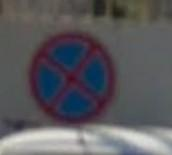No Parking: (29, 33, 118, 125)
